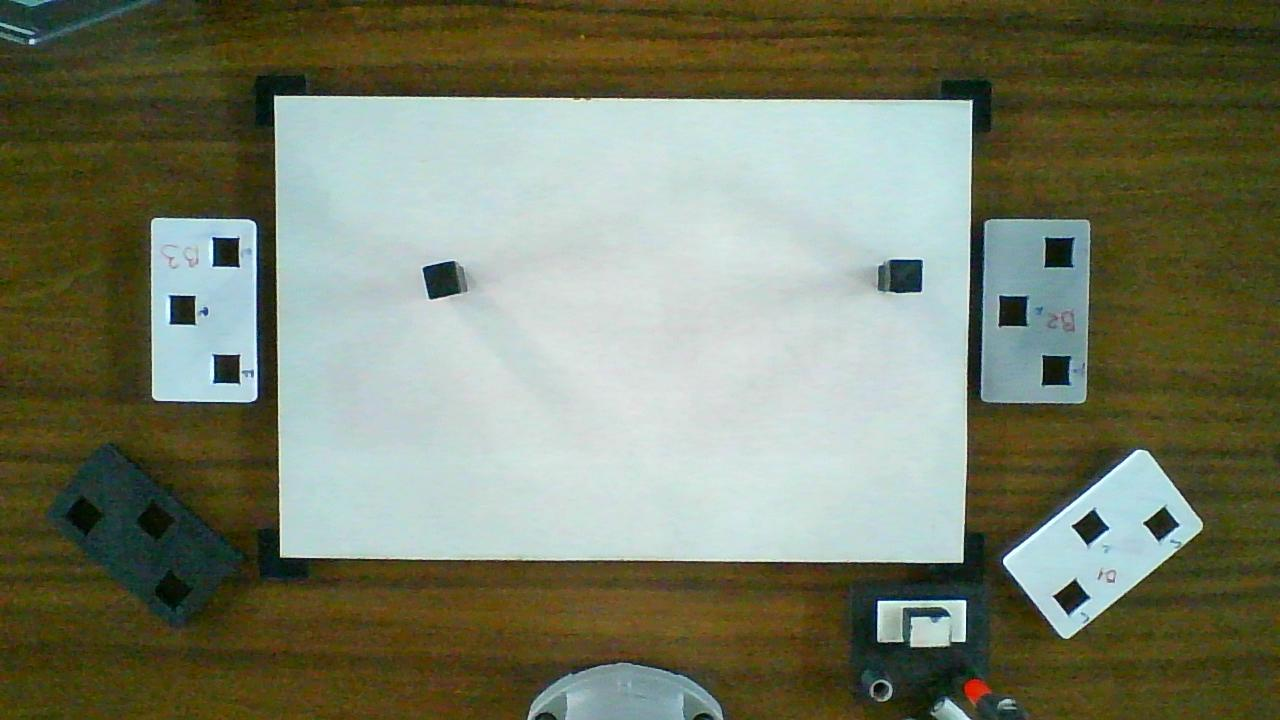peca_preta: (423, 263, 459, 298), (890, 260, 922, 292)
